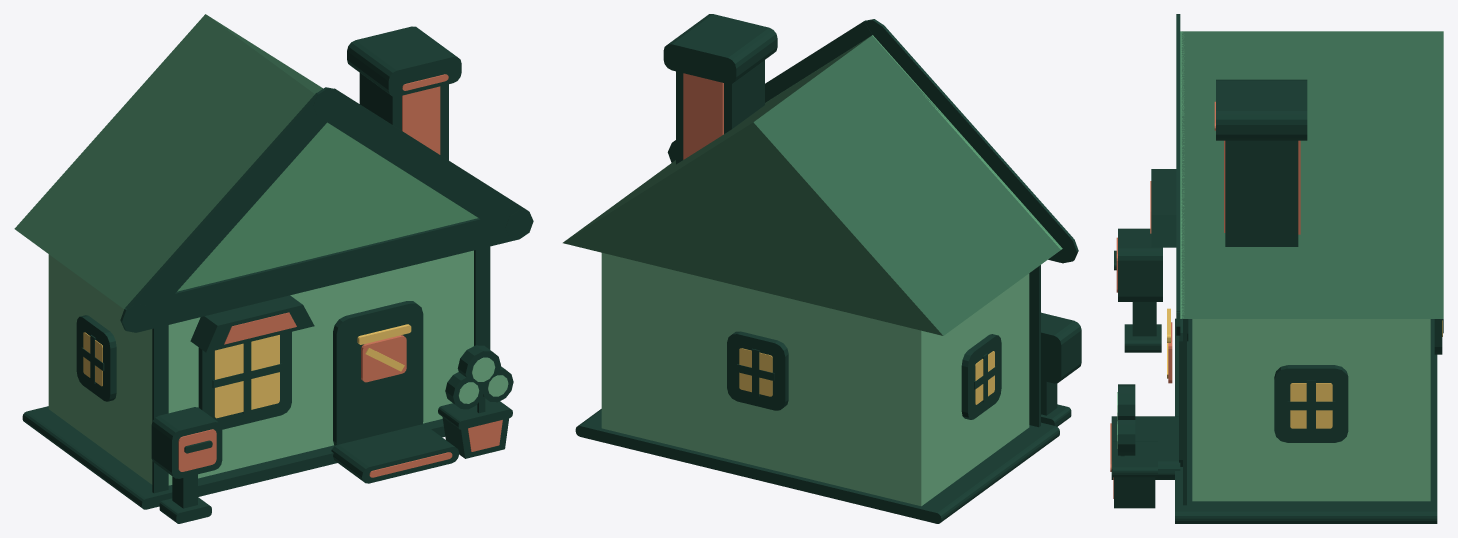
The picture shows the model from 3 angles, left to right: view 1: azimuth 30°, elevation 25°; view 2: azimuth 150°, elevation 25°; view 3: azimuth 270°, elevation 25°; orthographic projection. The views are drawn at different scales.
Visible parts, largest first — view 1: Rent Free house; view 2: Rent Free house; view 3: Rent Free house.
Part boxes in pixels (x1=…): Rent Free house: x1=14, y1=14, x2=533, y2=523; Rent Free house: x1=563, y1=14, x2=1081, y2=523; Rent Free house: x1=1110, y1=14, x2=1443, y2=523.
Size of the model in its own units: 1.13 by 0.9843 by 0.72.
